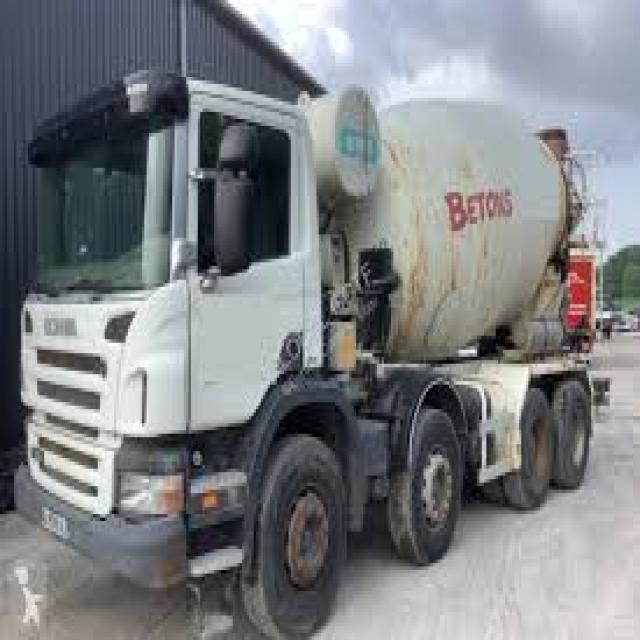Mixer Truck: (14, 63, 613, 636)
